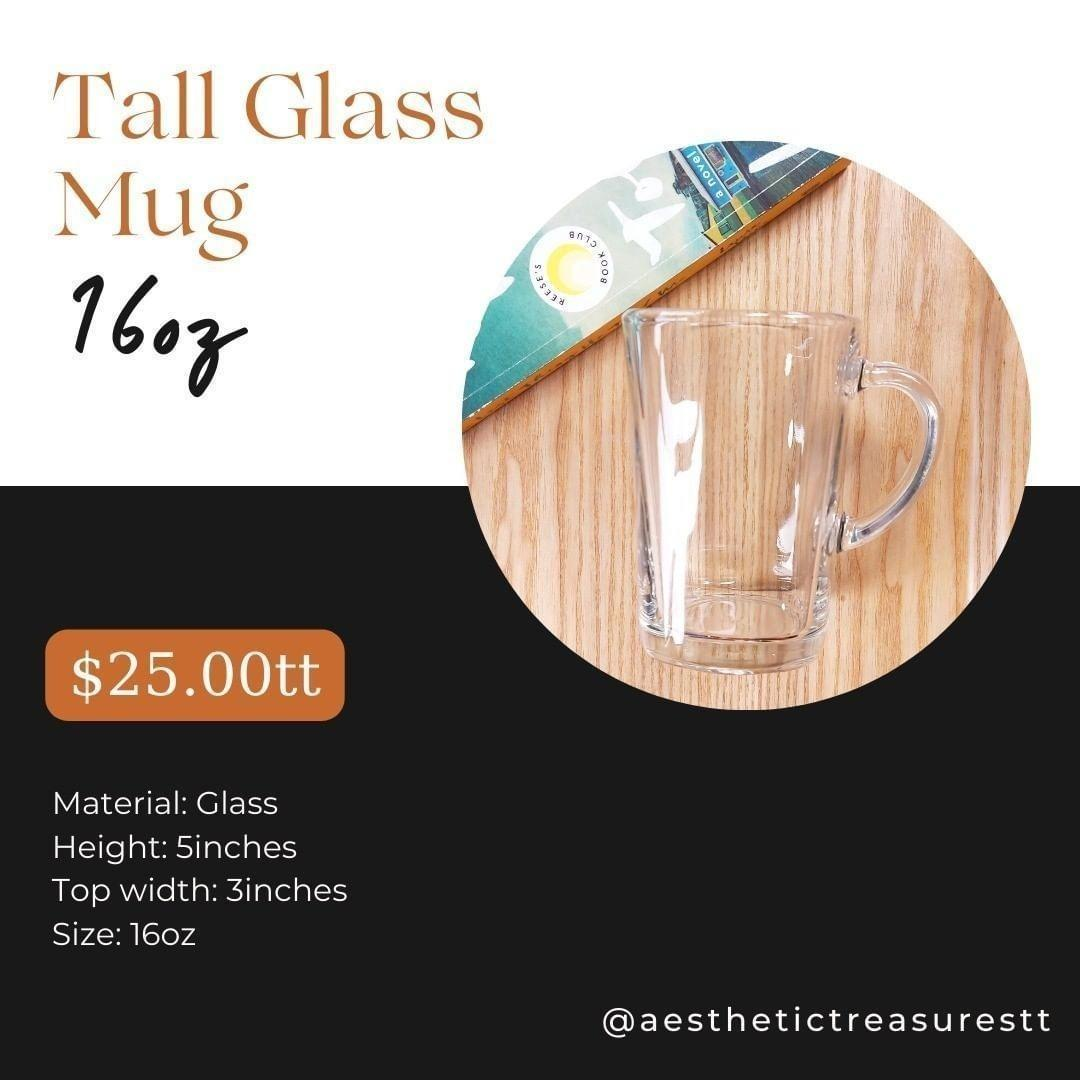glass-mug: (618, 295, 944, 679)
